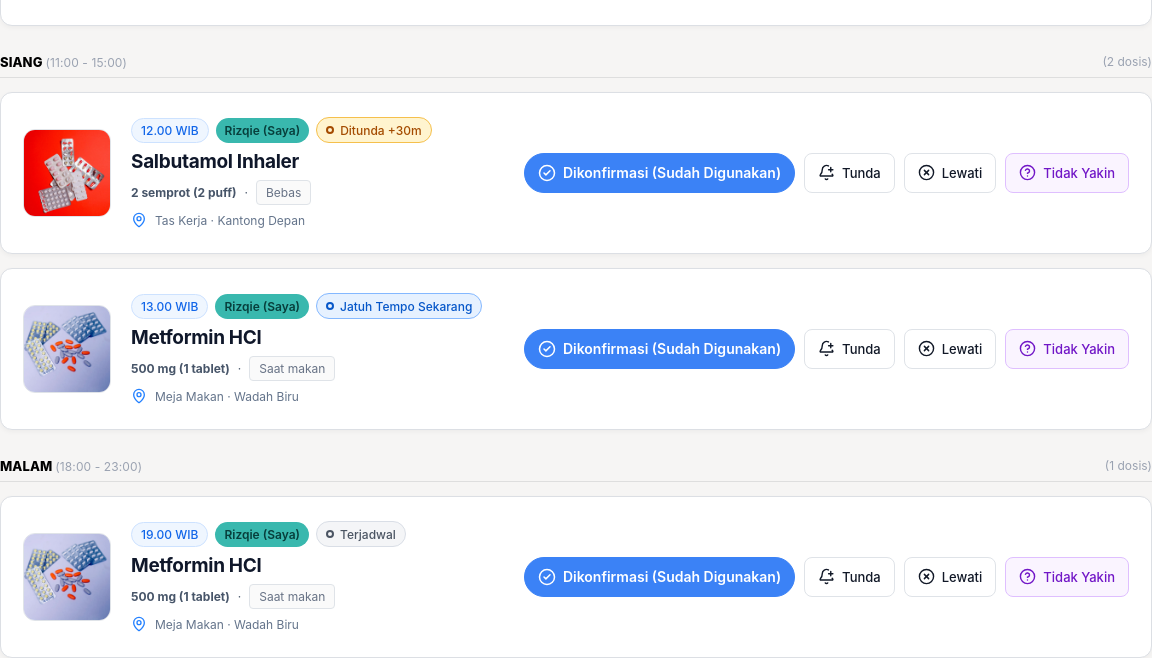
Scenario: TodayPage › menunda melalui popup tanpa memperluas medication row
The image size is (1152, 658).
(page scrolled)
Click the 2nd button "Tunda". click: {"x": 849, "y": 349}
box: [804, 329, 895, 369]
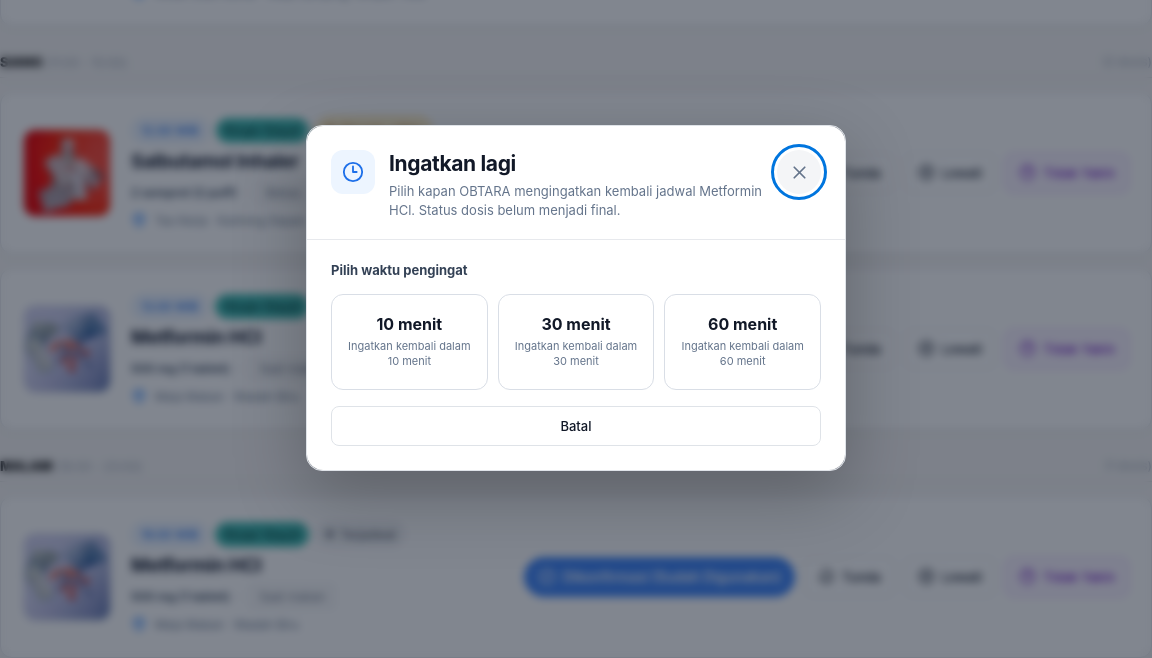
Expected: the dialog "Ingatkan lagi" is shown, [306, 125, 846, 471]
Click the button "30 menit Ingatkan kembali dalam 30 menit". click: {"x": 576, "y": 342}
box: [498, 294, 654, 390]
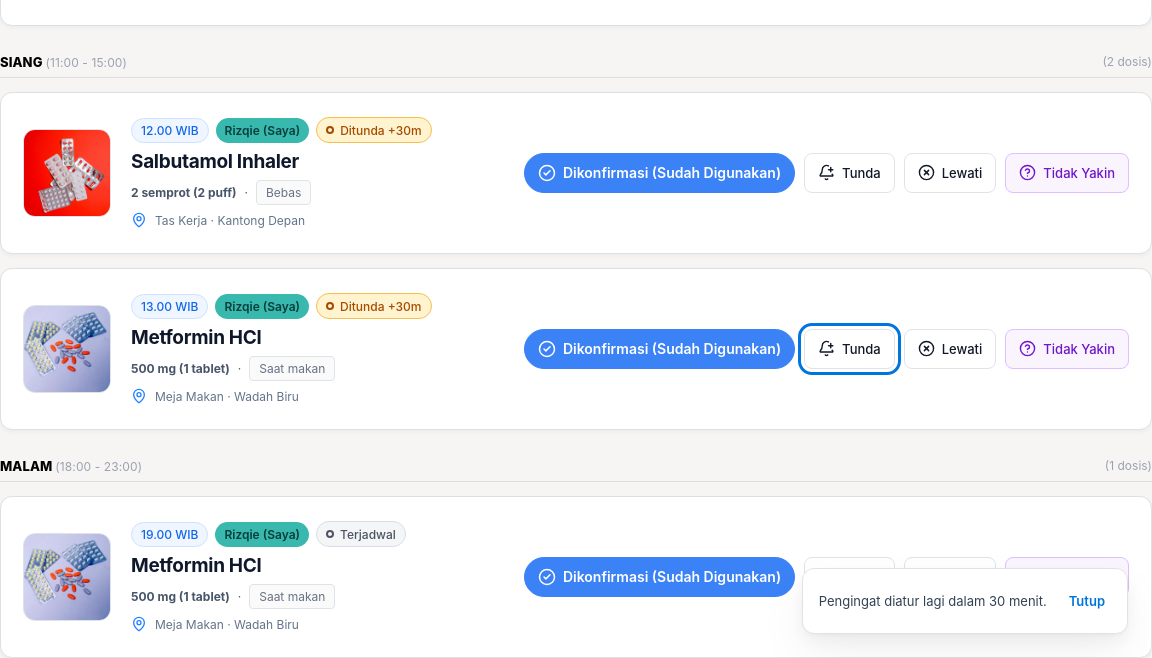
Expected: the heading "Ingatkan lagi" is gone
Expected: the text "Pengingat diatur lagi dalam 30 menit." is shown, [819, 593, 1047, 609]
